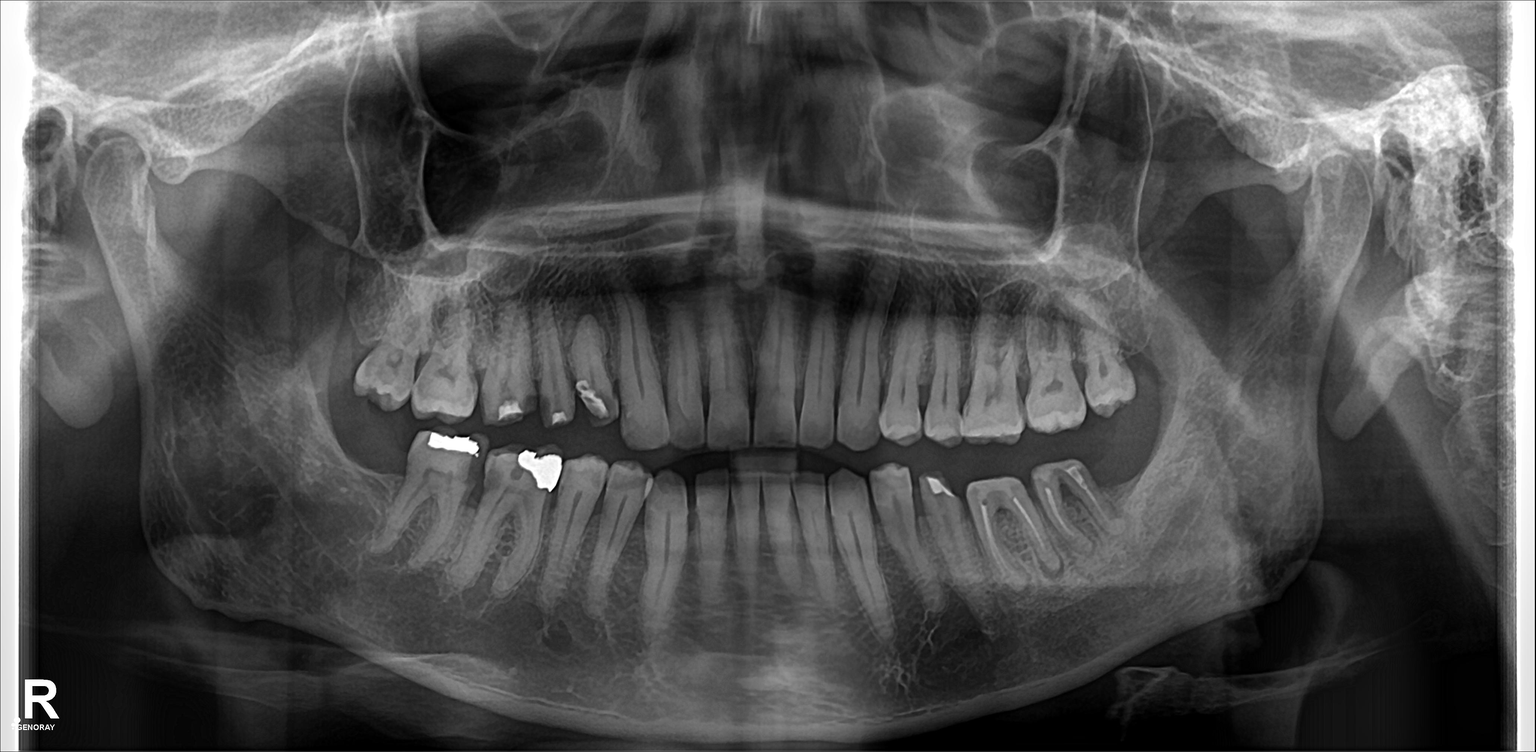Dental Caries: (460, 449, 489, 514), (575, 385, 618, 422)
Endodontically Treated Tooth: (967, 475, 1047, 597), (1045, 458, 1102, 569)
Missing Tooth: (352, 419, 411, 538), (315, 283, 371, 395), (1102, 445, 1153, 541), (1115, 294, 1161, 399)
